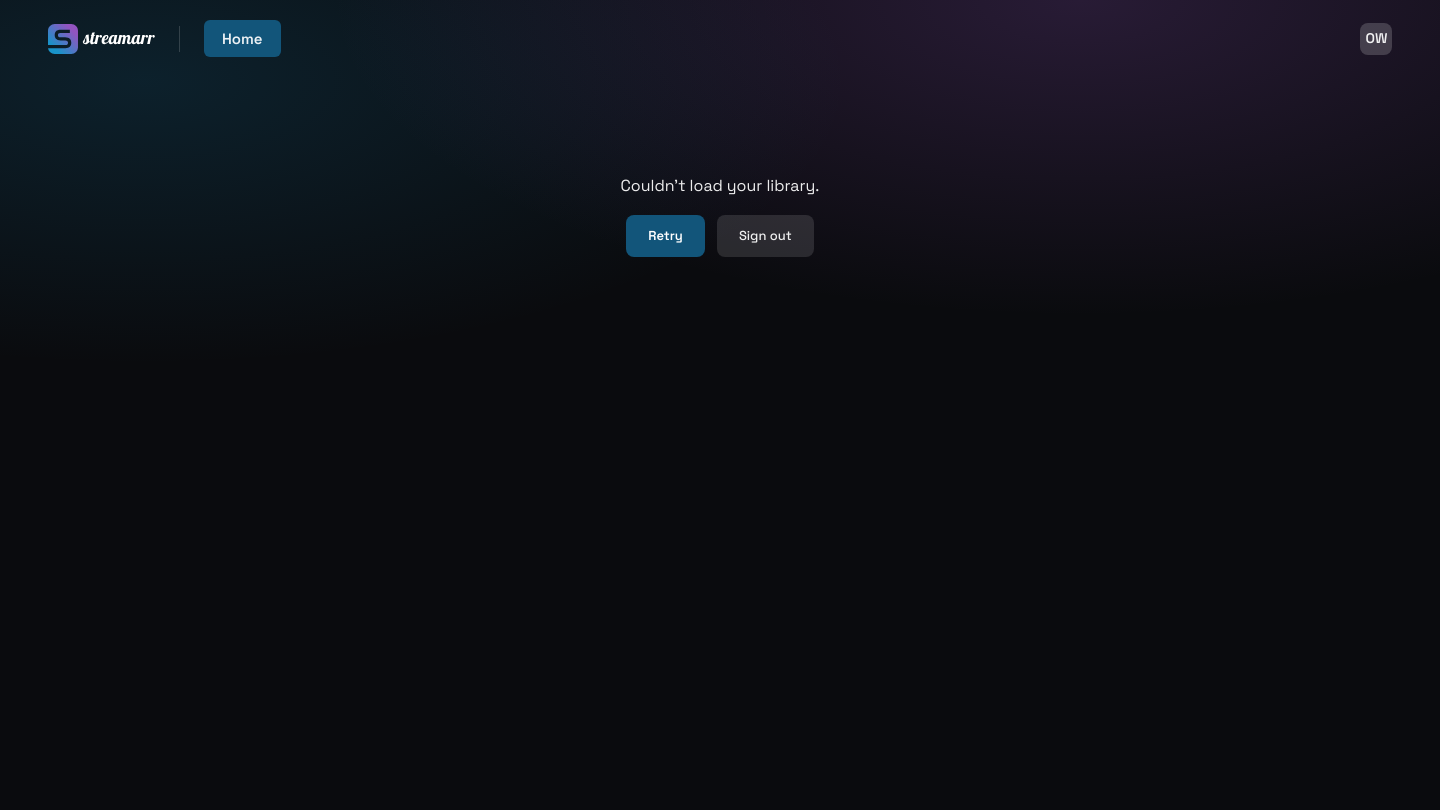
Scenario: Home › shouldRetryHomeAfterItFailsToLoad
This screenshot has width=1440, height=810.
expect the message reads "Couldn't load your library.": met, box 621,175 -> 820,196
Click the button "Retry" at (666, 236), box 626,215 -> 705,257
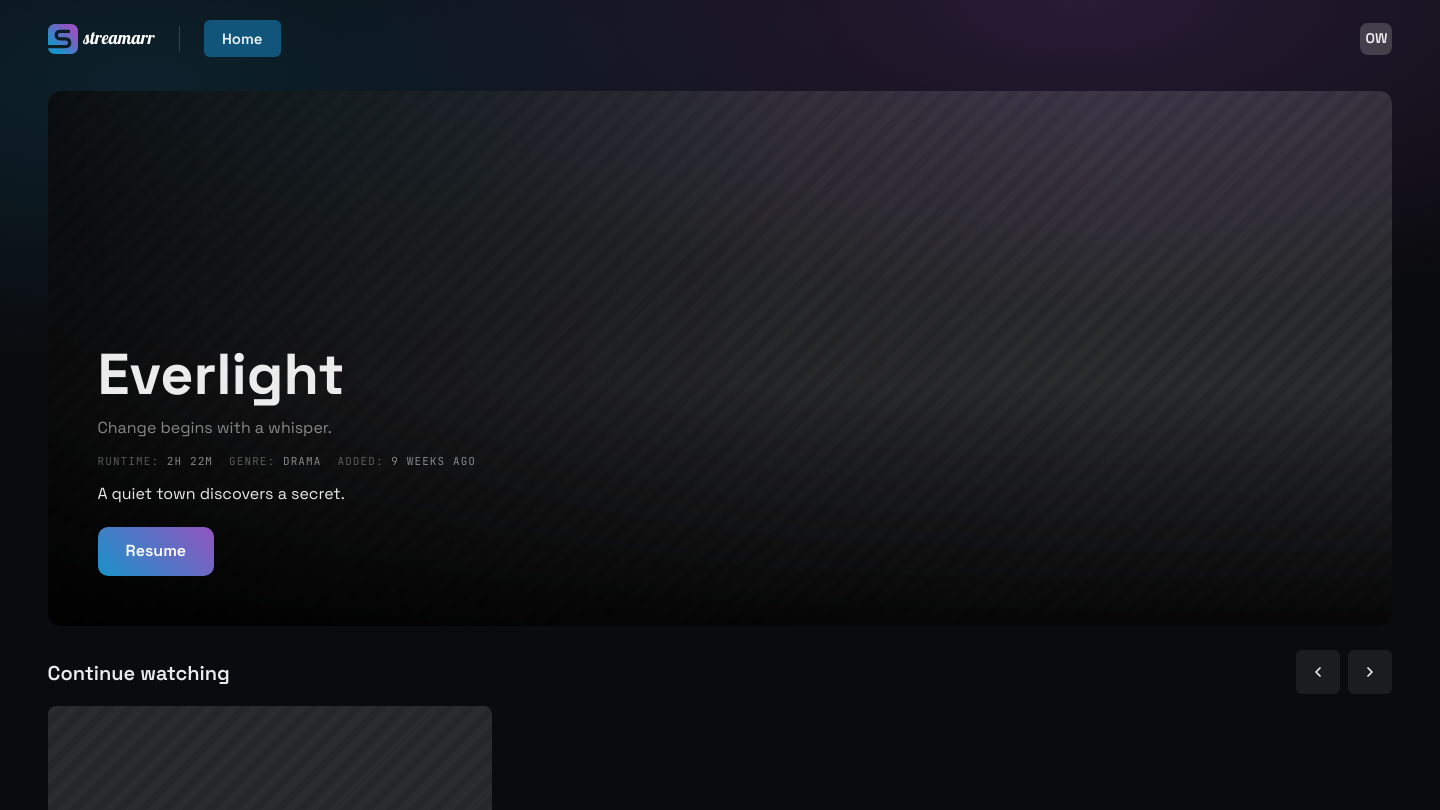
expect the heading "Everlight" is shown: met, box 98,337 -> 344,411
